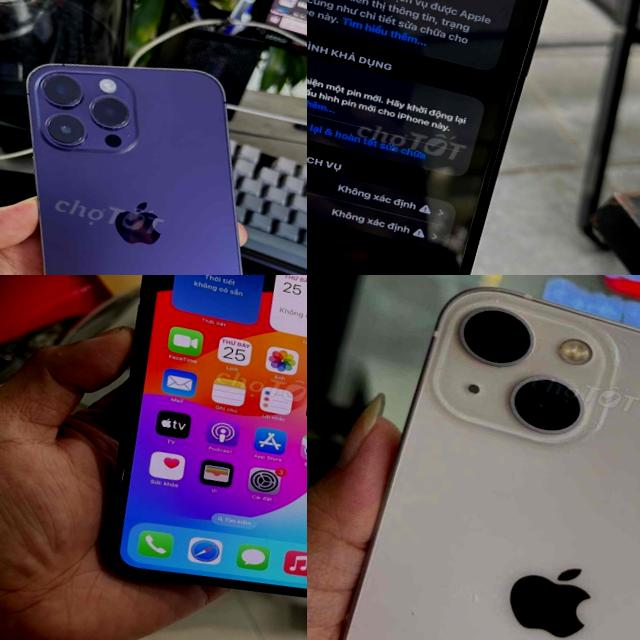gen_11: (106, 275, 307, 594)
gen_12_13: (333, 275, 640, 640), (307, 0, 580, 275)
gen_14: (0, 26, 307, 275)
